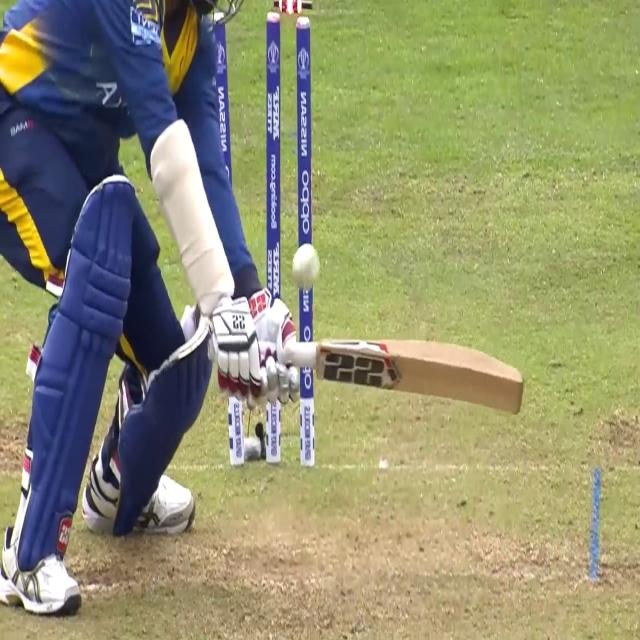ball: (289, 238, 321, 295)
